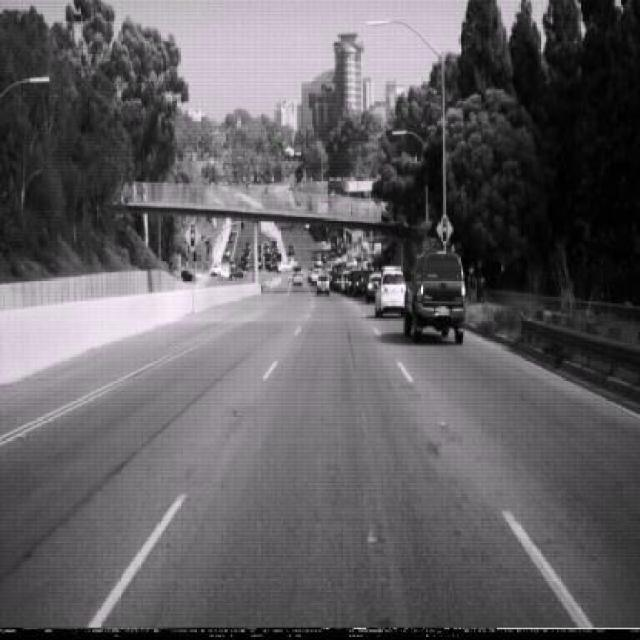signalAhead: (435, 209, 454, 246), (183, 218, 200, 252), (350, 205, 356, 217)
